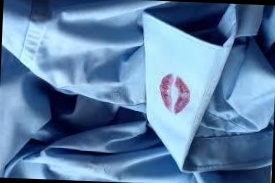lipstick: (156, 65, 193, 118)
